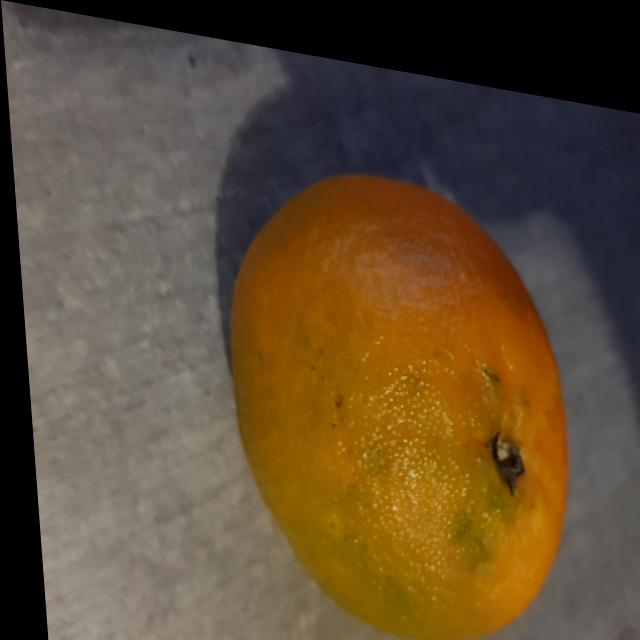Orange: (219, 159, 562, 631)
